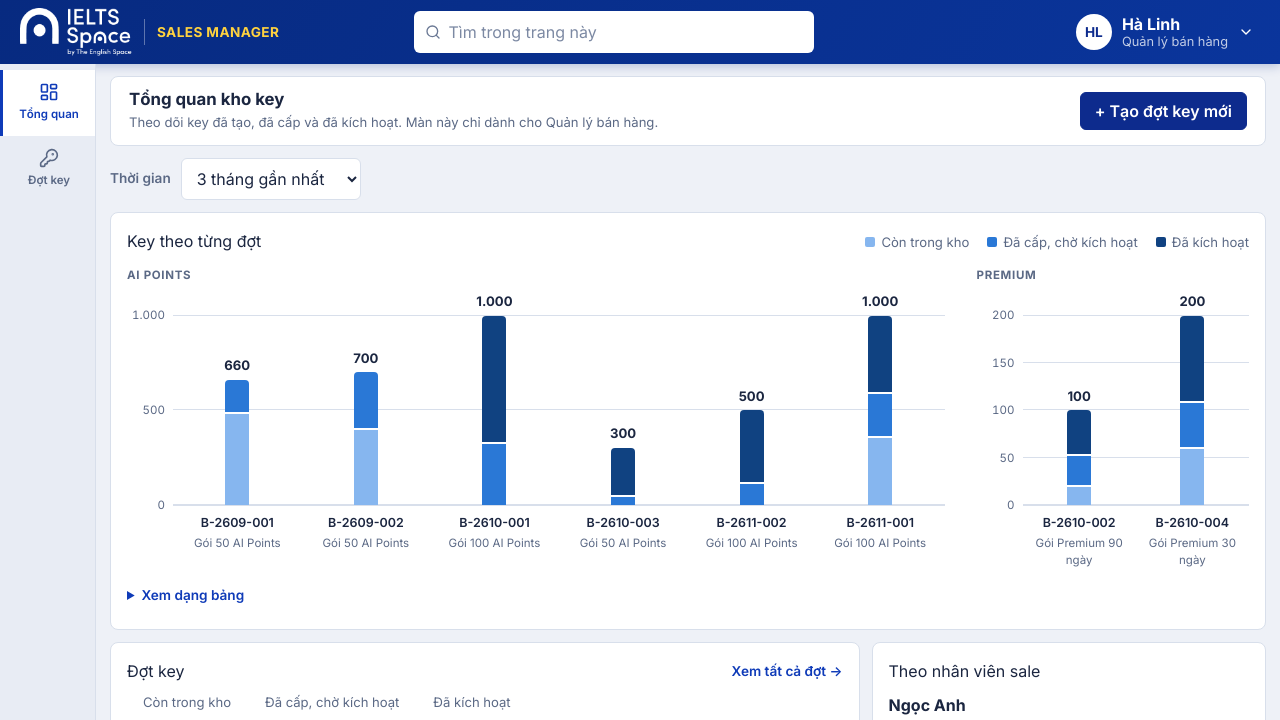
Test: sale manager screens › narrows the whole overview to the chosen month
Check: the picture named "B-2611-001 Gói 100 AI Points, Còn trong kho: 360 key" is shown, box x1=868 y1=438 x2=892 y2=505
Step 1. Select "Tháng 9/2026" in the dropdown labelled "Thời gian" → (271, 178), box x1=181 y1=158 x2=361 y2=200
(page scrolled)
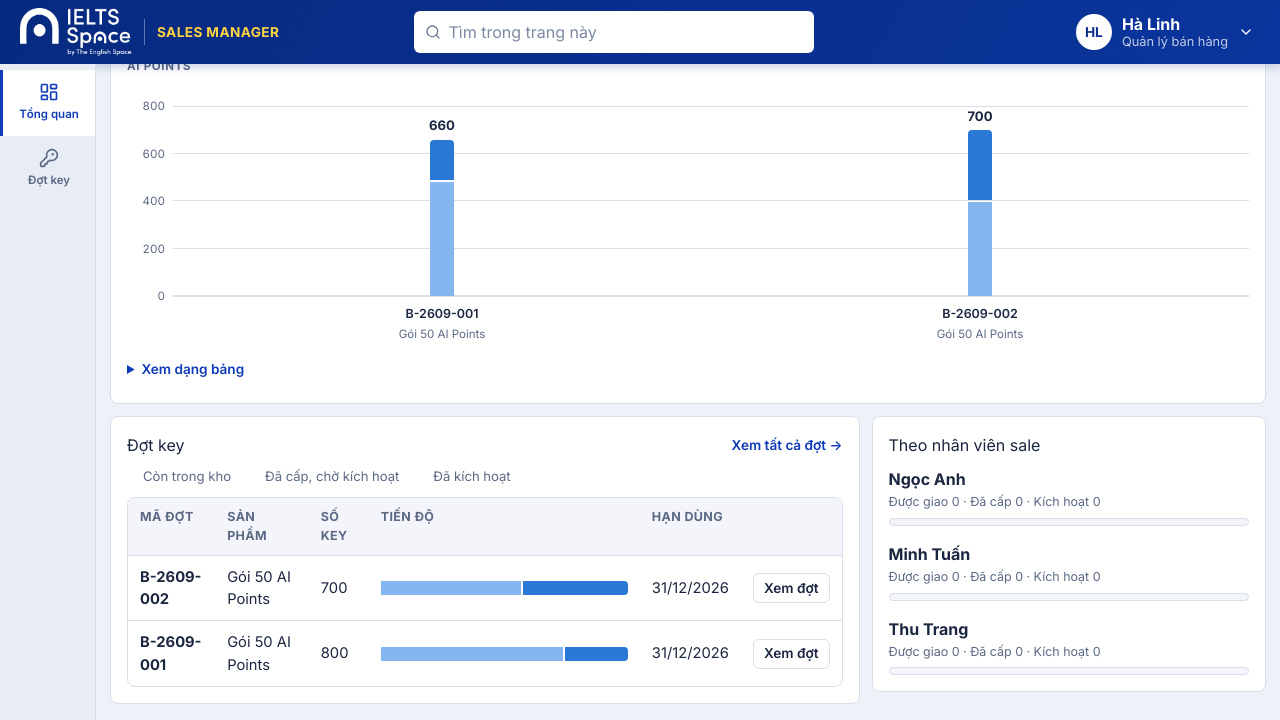
Check: the field labelled "B-2611-001" is gone
Check: the row "B-2611-001" is gone
Check: the row "B-2609-001 Gói 50 AI Points 800 31/12/2026 Xem đợt" is shown, box x1=128 y1=621 x2=842 y2=686
